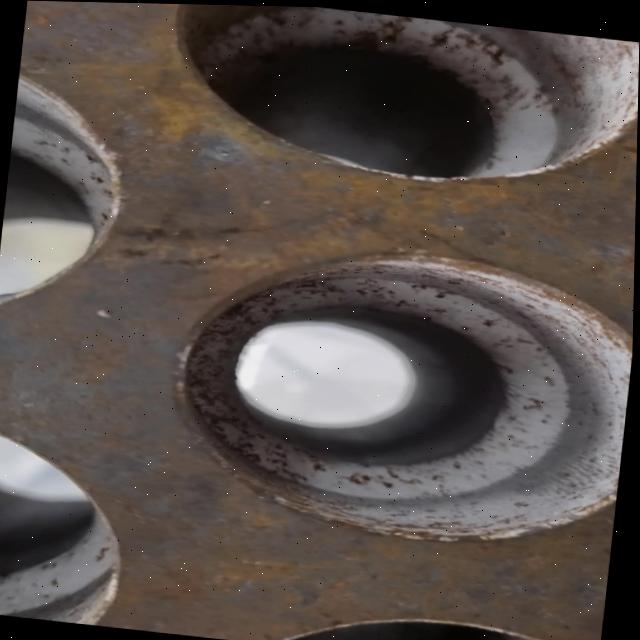Hole: (162, 225, 636, 555), (157, 3, 640, 200), (0, 62, 137, 333), (0, 419, 138, 627)
